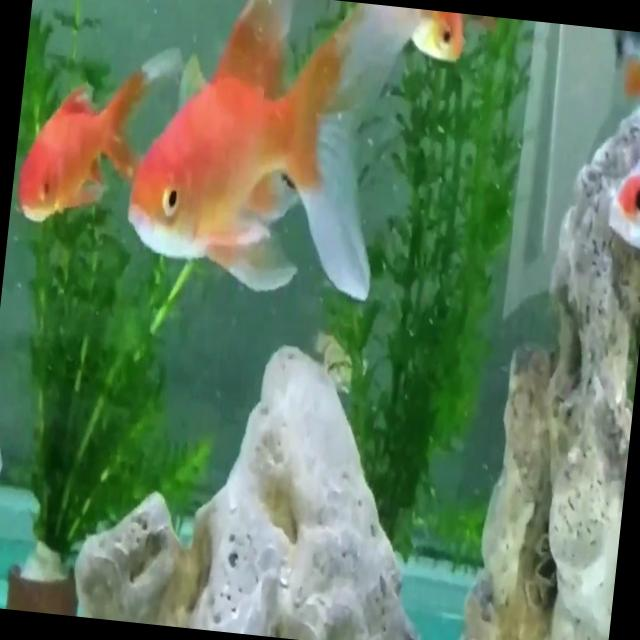GoldFish: (115, 0, 416, 324), (15, 82, 130, 228)
